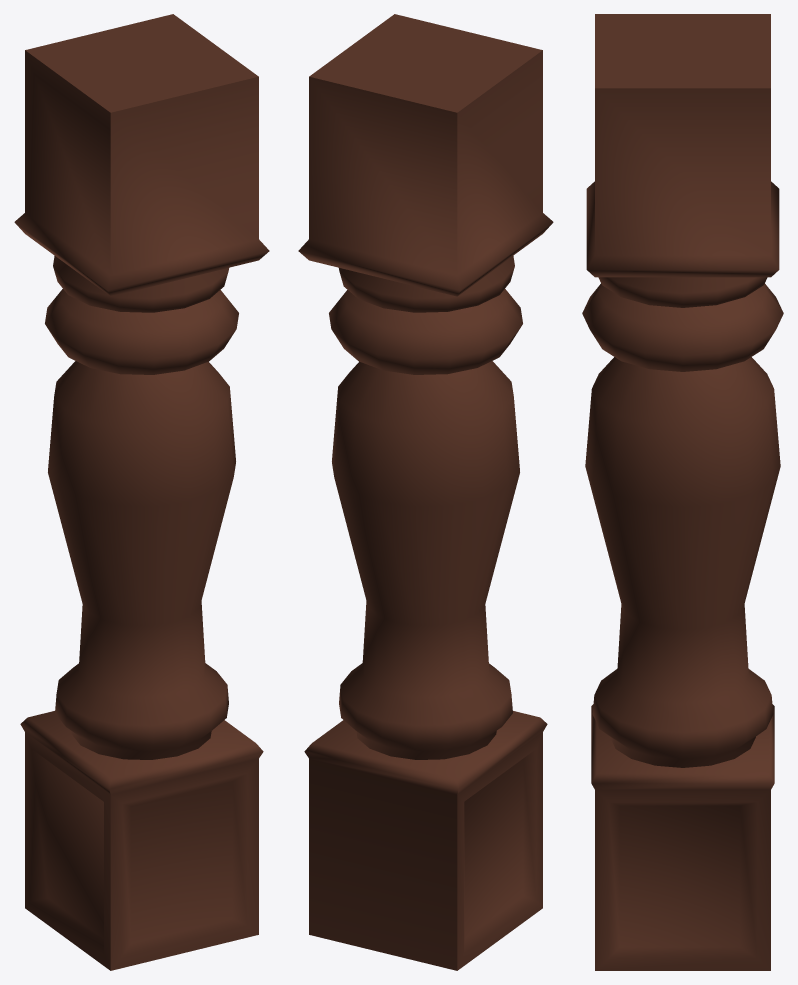
The model's file is scenerycolumn.fbx.
3 renders of one model, left to right at view 1: azimuth 30°, elevation 25°; view 2: azimuth 150°, elevation 25°; view 3: azimuth 270°, elevation 25°, orthographic. The views are drawn at different scales.
Parts seen in each view (by area): view 1: Cube.001; view 2: Cube.001; view 3: Cube.001.
Part boxes in pixels (x1,y1,x2,y2): Cube.001: (14,14,269,970); Cube.001: (298,14,553,970); Cube.001: (582,14,783,970).
Size of the model in its own units: 62.12 by 300 by 62.12.
